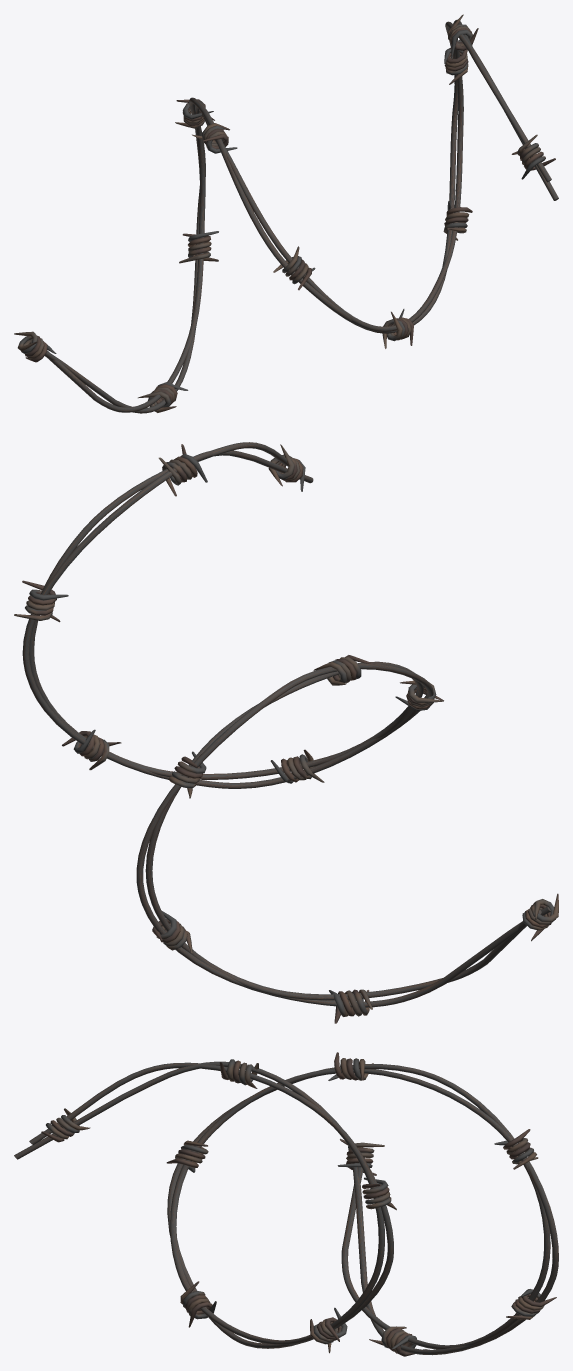
The model's file is barbedS.glb.
The picture shows the model from 3 angles, top to bottom: view 1: azimuth 30°, elevation 25°; view 2: azimuth 150°, elevation 25°; view 3: azimuth 270°, elevation 25°; orthographic projection. The views are drawn at different scales.
Parts seen in each view (by area): view 1: Rail_by_daftvid, Rail_Wire_3, Rail_Wire, Rail_Wire_11, Rail_Wire_6, Rail_Wire_7, Rail_Wire_5, Rail_Wire_2, Rail_Wire_8, Rail_Wire_9, Rail_Wire_10; view 2: Rail_by_daftvid, Rail_Wire_9, Rail_Wire_10, Rail_Wire_2, Rail_Wire_8, Rail_Wire_7, Rail_Wire, Rail_Wire_5, Rail_Wire_4, Rail_Wire_3, Rail_Wire_11; view 3: Rail_by_daftvid, Rail_Wire_7, Rail_Wire_4, Rail_Wire_8, Rail_Wire_2, Rail_Wire_5, Rail_Wire_6, Rail_Wire_11, Rail_Wire_9, Rail_Wire_3, Rail_Wire_10, Rail_Wire.
Boxes of the visible parts, box(x1,y1,x2,y2) form: Rail_by_daftvid: box(30, 19, 558, 413); Rail_Wire_3: box(179, 231, 218, 263); Rail_Wire: box(14, 331, 56, 362); Rail_Wire_11: box(511, 134, 555, 179); Rail_Wire_6: box(273, 246, 315, 290); Rail_Wire_7: box(382, 309, 413, 348); Rail_Wire_5: box(192, 123, 237, 153); Rail_Wire_2: box(138, 382, 188, 412); Rail_Wire_8: box(443, 201, 472, 240); Rail_Wire_9: box(444, 48, 468, 84); Rail_Wire_10: box(447, 14, 478, 58); Rail_by_daftvid: box(22, 442, 551, 1007); Rail_Wire_9: box(14, 580, 68, 622); Rail_Wire_10: box(158, 444, 207, 496); Rail_Wire_2: box(329, 989, 372, 1023); Rail_Wire_8: box(62, 729, 121, 770); Rail_Wire_7: box(270, 749, 324, 783); Rail_Wire: box(522, 893, 558, 941); Rail_Wire_5: box(313, 655, 370, 685); Rail_Wire_4: box(169, 751, 206, 798); Rail_Wire_3: box(152, 910, 192, 953); Rail_Wire_11: box(268, 444, 305, 491); Rail_by_daftvid: box(14, 1061, 558, 1355); Rail_Wire_7: box(180, 1281, 216, 1327); Rail_Wire_4: box(494, 1129, 538, 1169); Rail_Wire_8: box(310, 1307, 347, 1353); Rail_Wire_2: box(369, 1326, 427, 1356); Rail_Wire_5: box(328, 1052, 373, 1080); Rail_Wire_6: box(166, 1140, 208, 1172); Rail_Wire_11: box(41, 1108, 90, 1142); Rail_Wire_9: box(362, 1177, 396, 1210); Rail_Wire_3: box(506, 1289, 556, 1319); Rail_Wire_10: box(219, 1059, 258, 1088); Rail_Wire: box(337, 1138, 384, 1175).
Bounding box in the file's own units: 66.46 × 52.98 × 63.47.
Materials: 1 (1 with a texture image).
